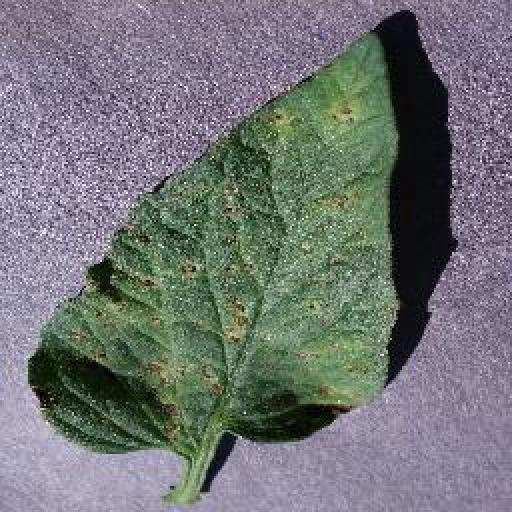disease_tomato: (23, 33, 402, 459)
